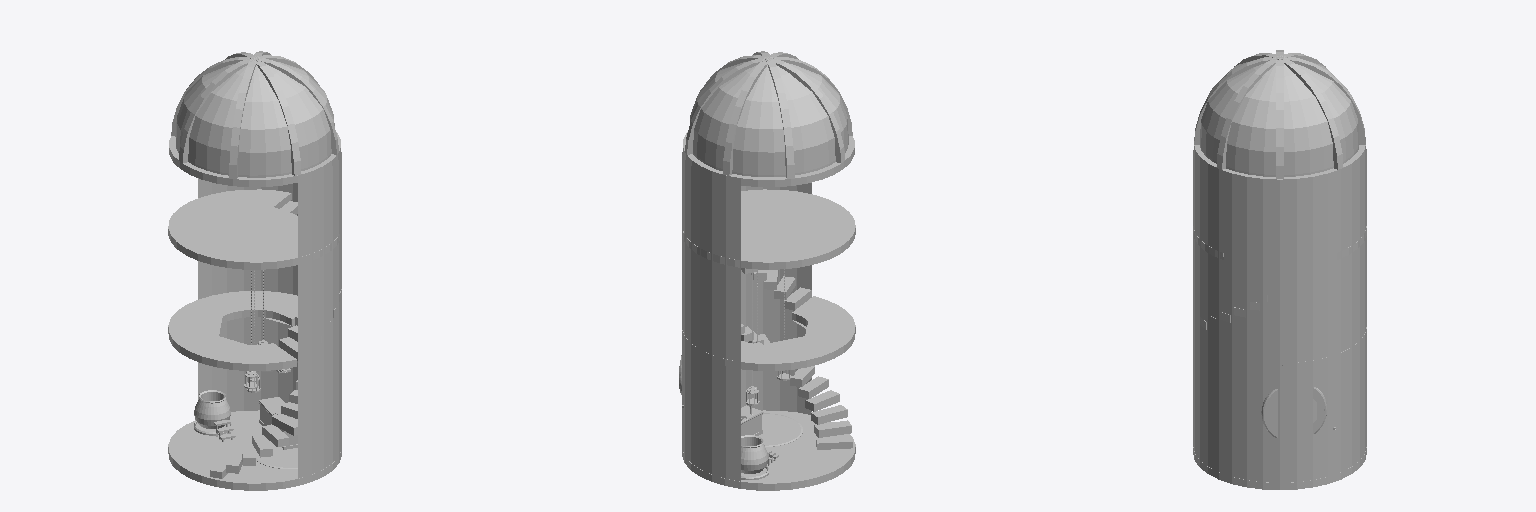
Rendered from aerhouse.obj.
3 renders of one model, left to right at view 1: azimuth 30°, elevation 25°; view 2: azimuth 150°, elevation 25°; view 3: azimuth 270°, elevation 25°, orthographic.
Visible parts, largest first — view 1: Cylinder.004, ROOF.001_Cylinder.013, Cylinder.007_Cylinder.023, Cylinder.005_Cylinder.019, Cylinder.008_Cylinder.035, Cylinder.002_Cylinder.001, Cube.021_Cube.028, Cylinder.001_Cylinder.005, Cube.022_Cube.031, Cylinder.006_Cylinder.009, Cube.018_Cube.022; view 2: Cylinder.004, ROOF.001_Cylinder.013, Cylinder.007_Cylinder.023, Cylinder.008_Cylinder.035, Cylinder.005_Cylinder.019, Cylinder.002_Cylinder.001, Cube.021_Cube.028, Cube.022_Cube.031, Cylinder.006_Cylinder.009, Cylinder.001_Cylinder.005, Cube.018_Cube.022; view 3: Cylinder.004, ROOF.001_Cylinder.013, Cylinder.008_Cylinder.035, Cylinder.002_Cylinder.001, Cylinder.009_Cylinder.003, Cylinder.005_Cylinder.019.
Boxes of the visible parts, box(x1,y1,x2,y2) form: Cylinder.004: box(198, 152, 341, 478); ROOF.001_Cylinder.013: box(176, 61, 334, 177); Cylinder.007_Cylinder.023: box(168, 189, 339, 269); Cylinder.005_Cylinder.019: box(168, 291, 297, 370); Cylinder.008_Cylinder.035: box(169, 51, 340, 186); Cylinder.002_Cylinder.001: box(168, 410, 341, 490); Cube.021_Cube.028: box(210, 380, 297, 478); Cylinder.001_Cylinder.005: box(194, 390, 230, 428); Cube.022_Cube.031: box(279, 201, 341, 359); Cylinder.006_Cylinder.009: box(255, 440, 297, 468); Cube.018_Cube.022: box(259, 397, 297, 449); Cylinder.004: box(682, 152, 811, 481); ROOF.001_Cylinder.013: box(690, 61, 848, 176); Cylinder.007_Cylinder.023: box(683, 189, 855, 269); Cylinder.008_Cylinder.035: box(683, 51, 854, 186); Cylinder.005_Cylinder.019: box(682, 296, 855, 370); Cylinder.002_Cylinder.001: box(682, 410, 855, 490); Cube.021_Cube.028: box(741, 324, 852, 449); Cube.022_Cube.031: box(741, 268, 811, 310); Cylinder.006_Cylinder.009: box(759, 413, 802, 446); Cylinder.001_Cylinder.005: box(741, 435, 768, 473); Cube.018_Cube.022: box(741, 405, 763, 435); Cylinder.004: box(1193, 149, 1366, 482); ROOF.001_Cylinder.013: box(1200, 60, 1359, 176); Cylinder.008_Cylinder.035: box(1194, 50, 1365, 185); Cylinder.002_Cylinder.001: box(1193, 447, 1366, 489); Cylinder.009_Cylinder.003: box(1261, 387, 1326, 437); Cylinder.005_Cylinder.019: box(1282, 327, 1366, 370).
Bounding box in the file's own units: 62.34 × 155 × 61.59.